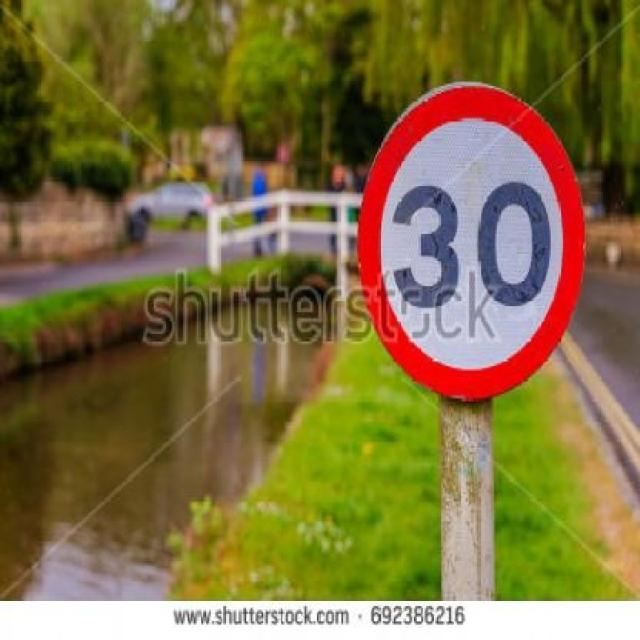forb_speed_over_30: (359, 80, 585, 405)
